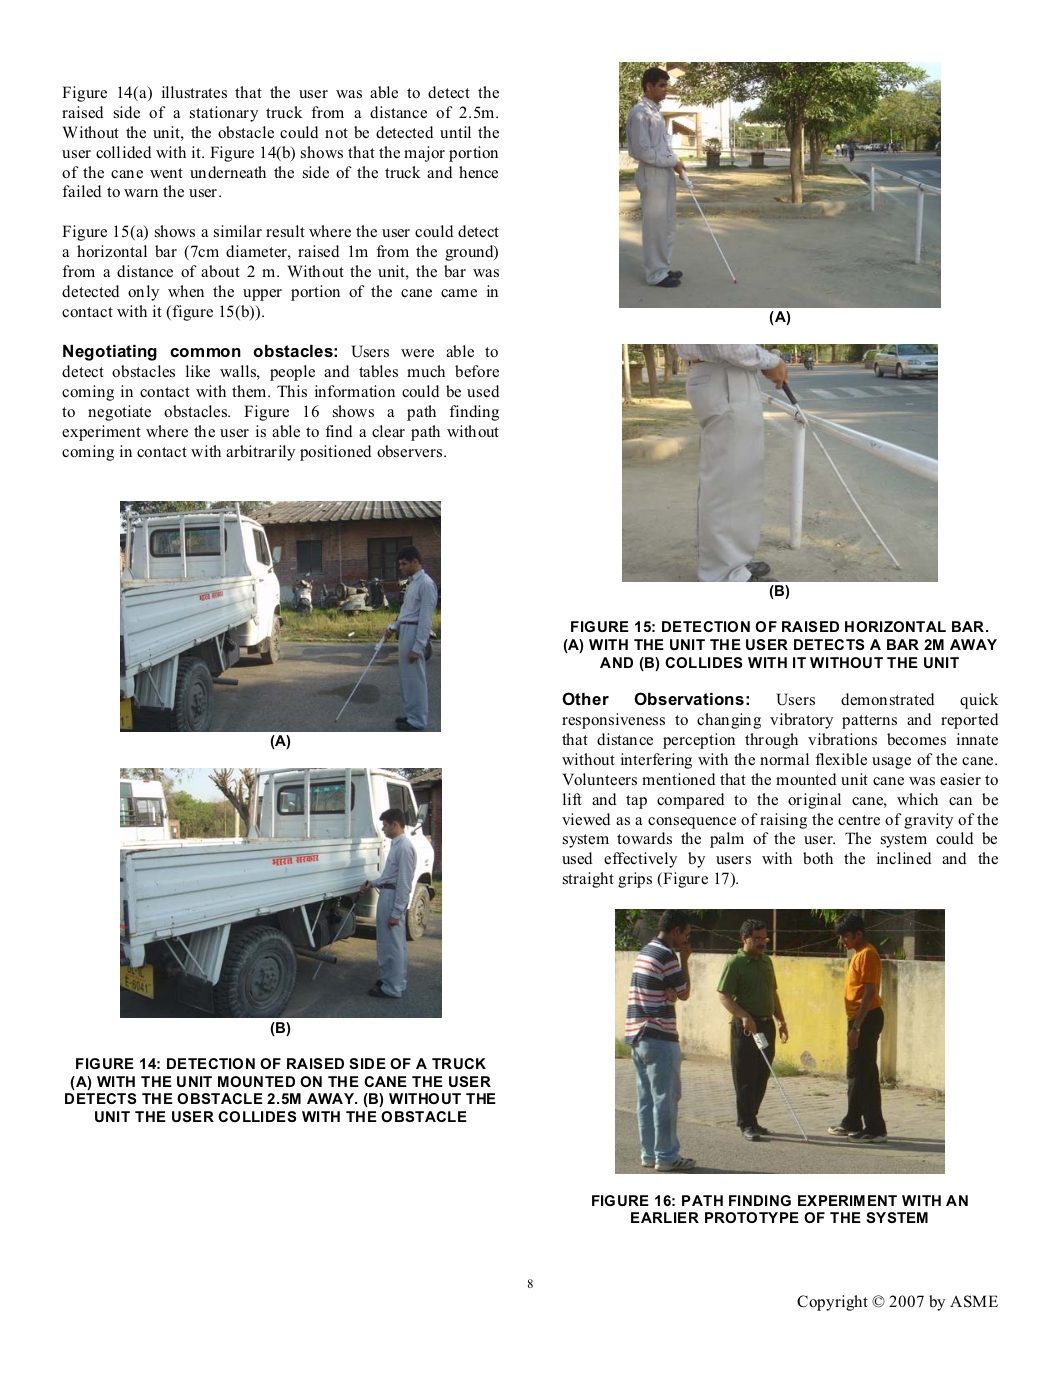figure: (614, 908, 945, 1174), (619, 61, 940, 327), (621, 342, 937, 600), (120, 767, 441, 1017), (119, 500, 441, 750)
